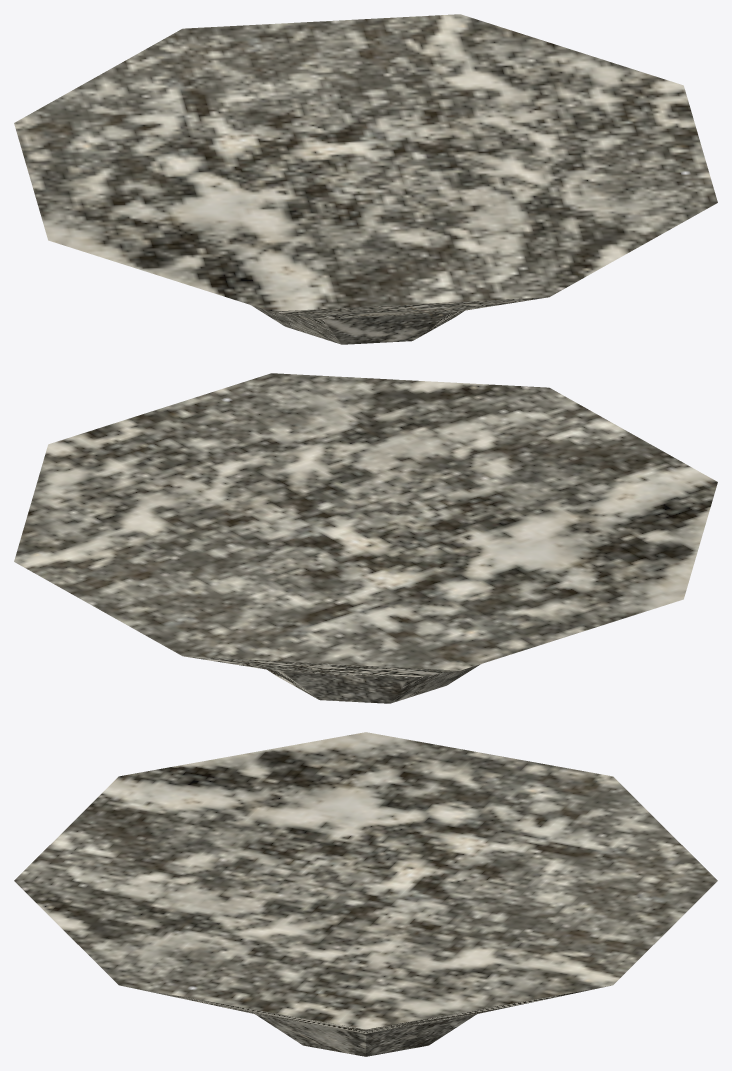
The model's file is pillarhead.fbx.
3 views of the same model, one above another, from view 1: azimuth 30°, elevation 25°; view 2: azimuth 150°, elevation 25°; view 3: azimuth 270°, elevation 25° (orthographic). The views are drawn at different scales.
Visible parts, largest first — view 1: Cube; view 2: Cube; view 3: Cube.
Part boxes in pixels (bbox=[...]): Cube: bbox=[14, 14, 717, 344]; Cube: bbox=[14, 373, 717, 703]; Cube: bbox=[14, 732, 717, 1056].
Size of the model in its own units: 231 by 50 by 231.
1 material, 1 textured.
